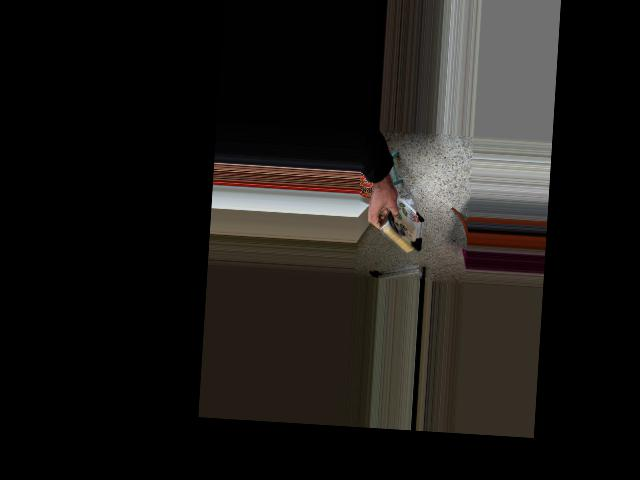cheese: (360, 198, 441, 268)
